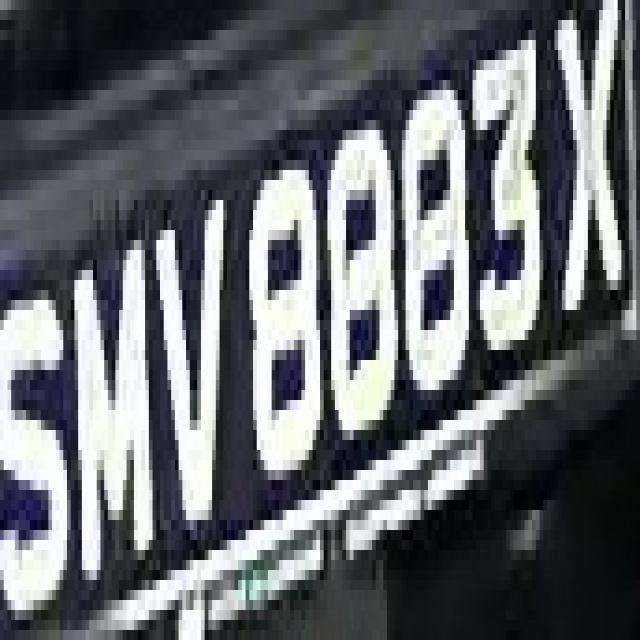3: (465, 0, 543, 400)
8: (383, 80, 473, 450), (235, 160, 328, 510), (316, 90, 398, 470)
M: (67, 210, 153, 580)
S: (7, 240, 74, 640)
V: (142, 160, 238, 550)
X: (558, 0, 629, 330)
